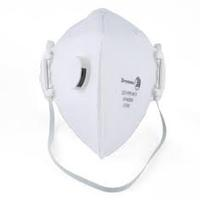flu mask: (37, 7, 163, 158)
